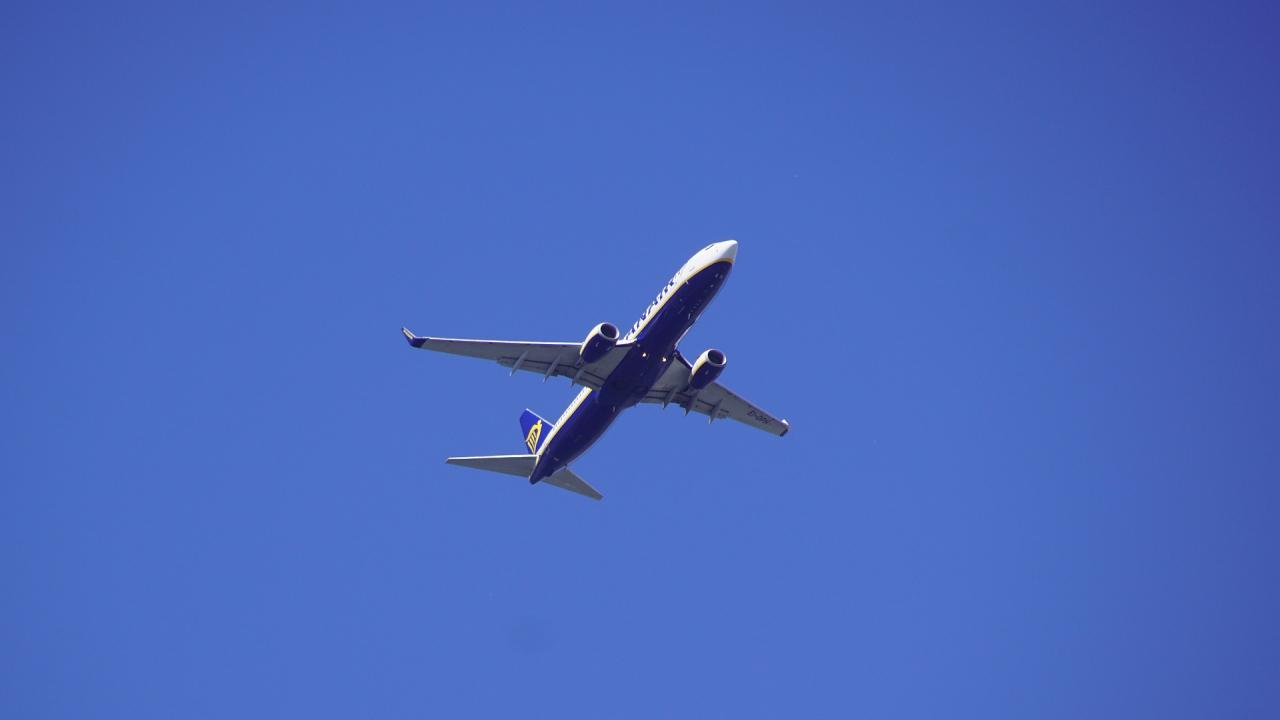Airplane: (384, 224, 810, 520)
